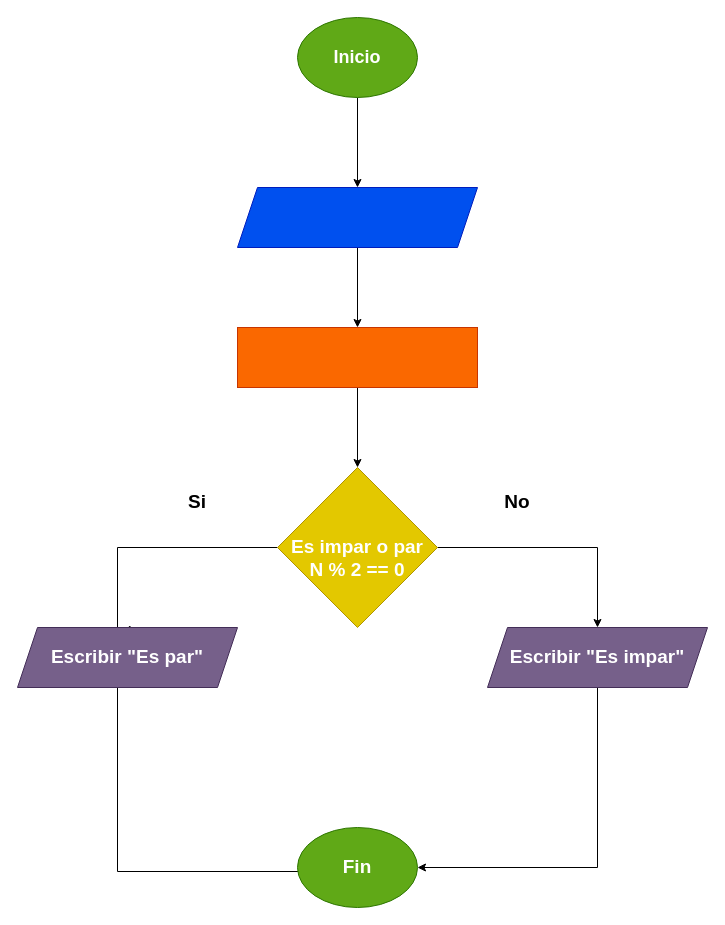
Image size: 725x925. Some labels were removed from this diagram. Here are the shapes that lost their labels. From the top down, the centre of each, then its label:
At (x=357, y=217): "Digite el numero".
At (x=357, y=357): "Leer numero N".
